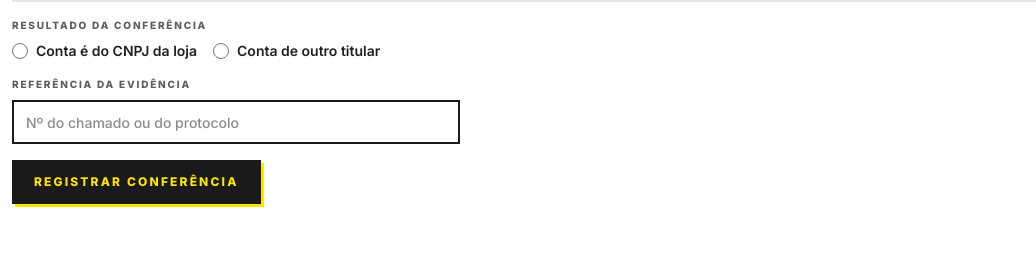
Test: VendorMercadoPagoIdentityForm › exige escolher o resultado
Type "CH-1234" into the field labelled "Referência da evidência".
click(236, 122); type("CH-1234")  # box [12,100,460,144]
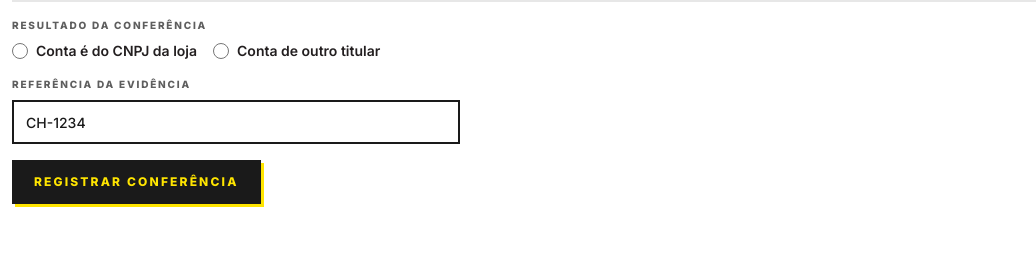
Click the button "Registrar conferência".
click(136, 182)  # box [12,160,260,204]
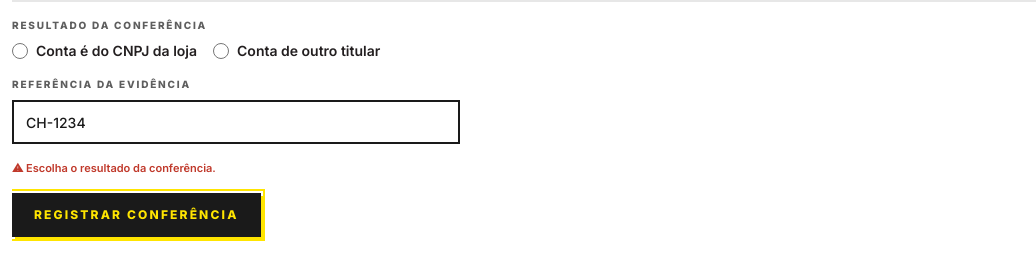
Result: the text "⚠ Escolha o resultado da conferência." is shown at [12,161,216,175]
